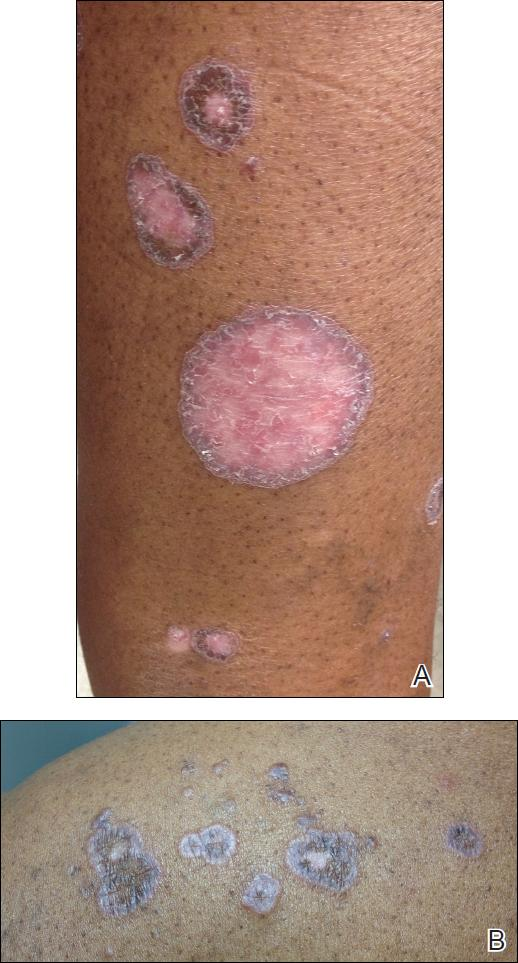annular lichen planus: (107, 52, 421, 535), (153, 597, 266, 675), (161, 794, 236, 875)
